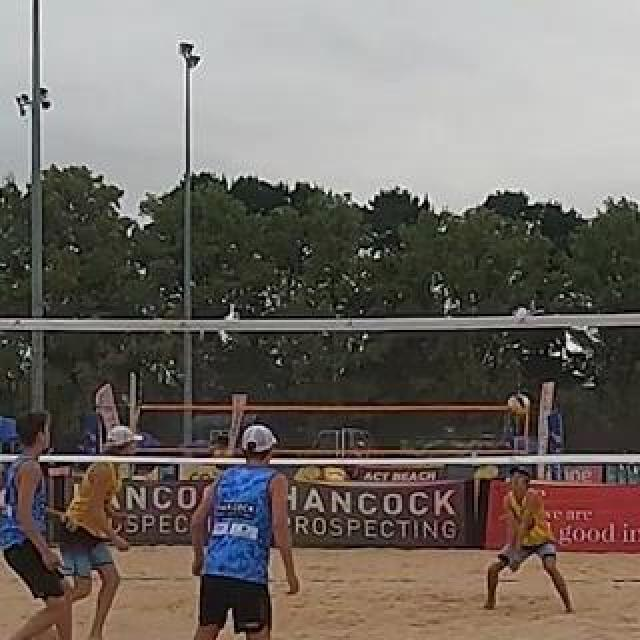volleyball: (508, 394, 530, 416)
